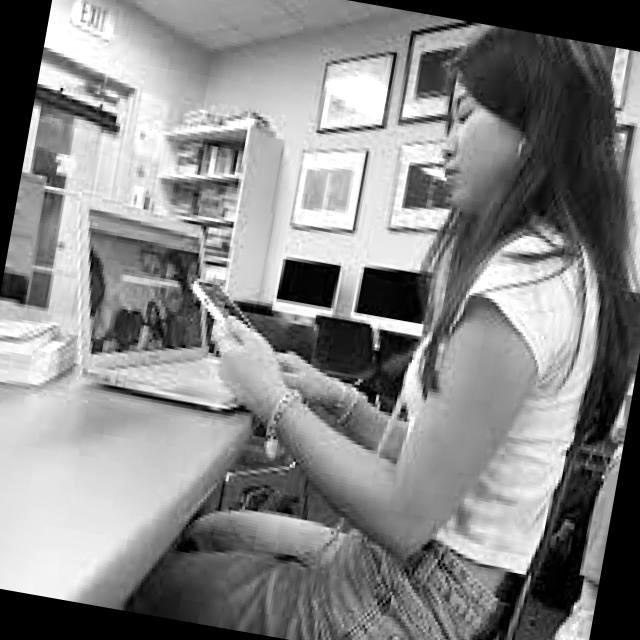phone: (181, 274, 260, 334)
